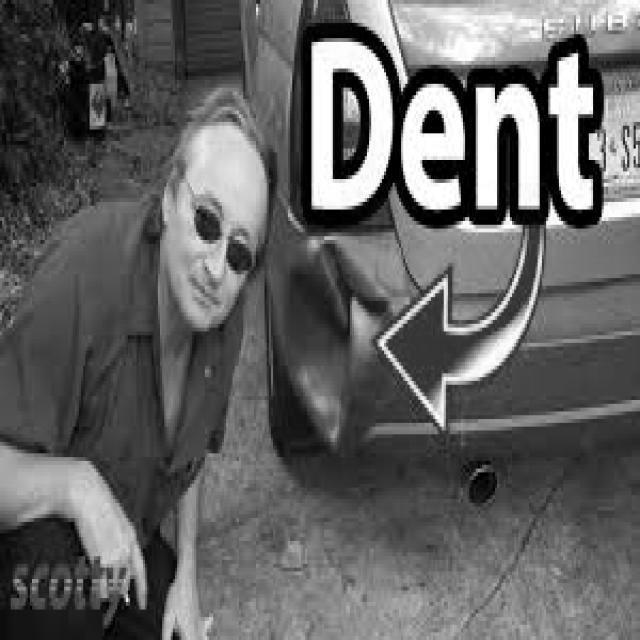rear-bumper-dent: (254, 195, 516, 480)
